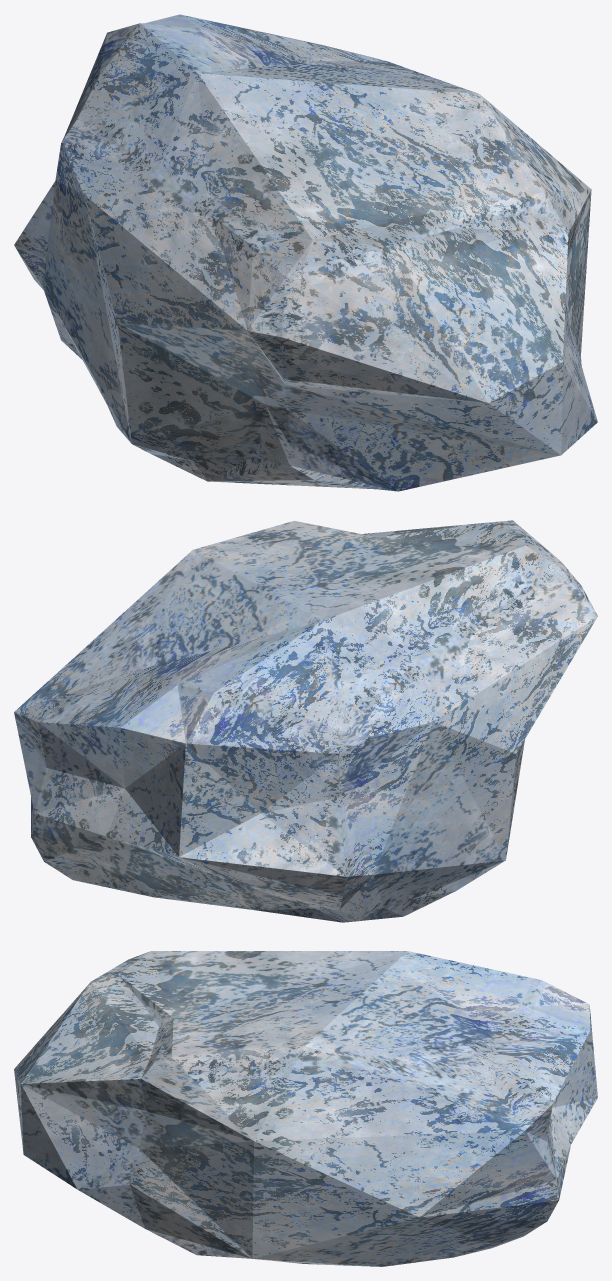
File: asteroid_ice_small_s01_l1.fbx
3 renders of one model, top to bottom at view 1: azimuth 30°, elevation 25°; view 2: azimuth 150°, elevation 25°; view 3: azimuth 270°, elevation 25°, orthographic. The views are drawn at different scales.
Parts seen in each view (by area): view 1: mesh_node; view 2: mesh_node; view 3: mesh_node.
Part boxes in pixels (left/top/right/bottom): mesh_node: left=14, top=14, right=597, bottom=491; mesh_node: left=14, top=520, right=597, bottom=922; mesh_node: left=14, top=951, right=597, bottom=1266.
Size of the model in its own units: 17 by 11.05 by 24.59.
Materials: 1 (1 with a texture image).
